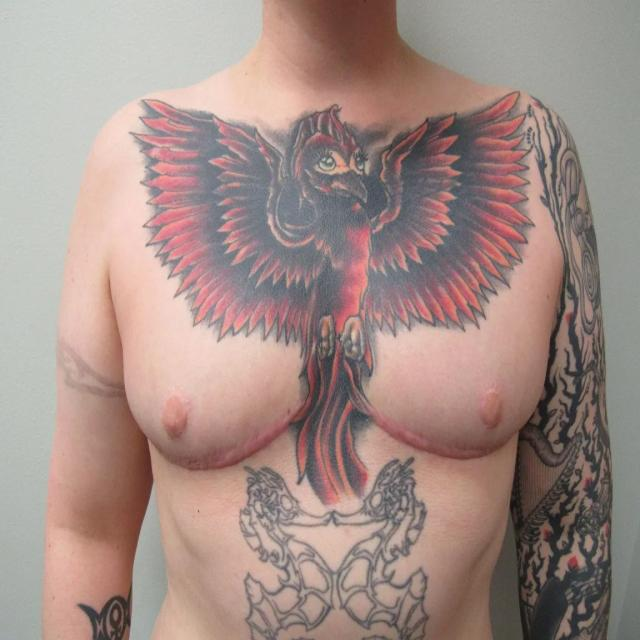Seno herido: (335, 287, 562, 482), (110, 288, 312, 483)
